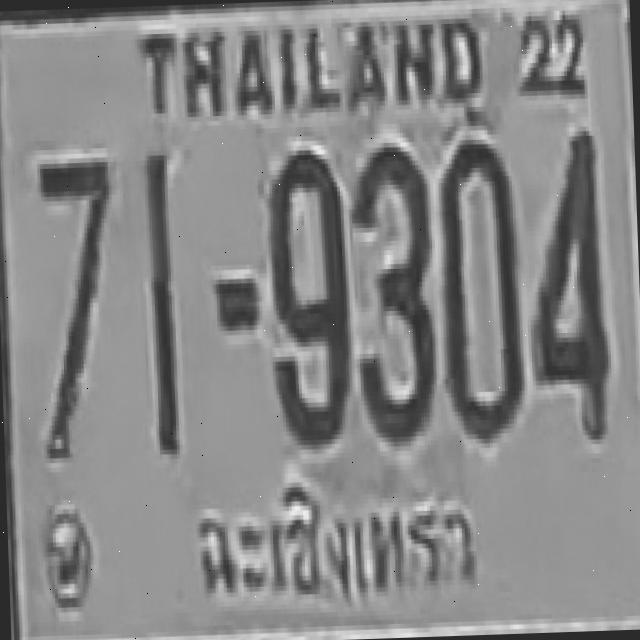0: (436, 133, 523, 440)
1: (143, 150, 180, 454)
3: (350, 142, 436, 442)
4: (526, 126, 610, 437)
7: (35, 157, 119, 458), (36, 157, 114, 369)
9: (264, 144, 350, 446)
Chachoengsao: (191, 469, 484, 624)
